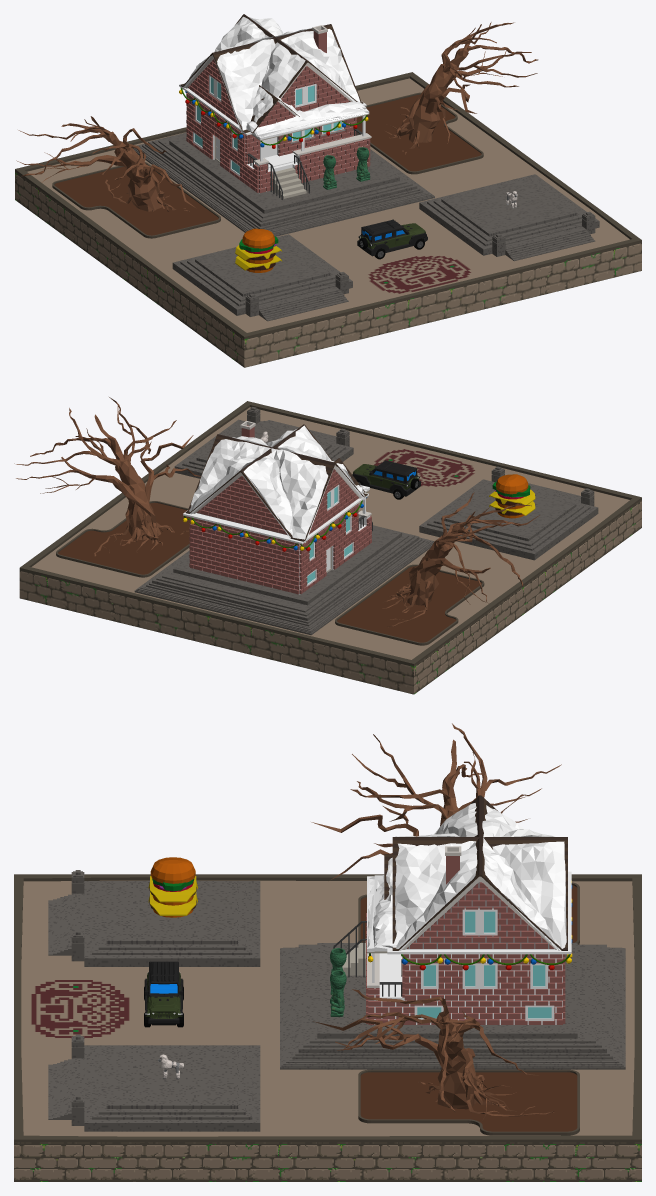
3 views of the same model, one above another, from view 1: azimuth 30°, elevation 25°; view 2: azimuth 150°, elevation 25°; view 3: azimuth 270°, elevation 25° (orthographic). The views are drawn at different scales.
Parts seen in each view (by area): view 1: Cube.011, Cube.1419, VEHICLES_JEEP, OBJRANDOM_HAMBURGER; view 2: Cube.011, Cube.1419, VEHICLES_JEEP, OBJRANDOM_HAMBURGER; view 3: Cube.011, Cube.1419, OBJRANDOM_HAMBURGER, VEHICLES_JEEP.
Boxes of the visible parts, x1=… form: Cube.011: x1=15, y1=22, x2=641, y2=367; Cube.1419: x1=179, y1=14, x2=371, y2=199; VEHICLES_JEEP: x1=357, y1=219, x2=427, y2=259; OBJRANDOM_HAMBURGER: x1=235, y1=228, x2=282, y2=272; Cube.011: x1=14, y1=397, x2=641, y2=694; Cube.1419: x1=183, y1=421, x2=372, y2=594; VEHICLES_JEEP: x1=352, y1=460, x2=420, y2=499; OBJRANDOM_HAMBURGER: x1=489, y1=474, x2=535, y2=518; Cube.011: x1=14, y1=723, x2=641, y2=1181; Cube.1419: x1=333, y1=795, x2=572, y2=1024; OBJRANDOM_HAMBURGER: x1=148, y1=857, x2=197, y2=917; VEHICLES_JEEP: x1=144, y1=961, x2=183, y2=1027.
Bounding box in the file's own units: 5099 × 1610 × 4000.
40 materials, 6 textured.
